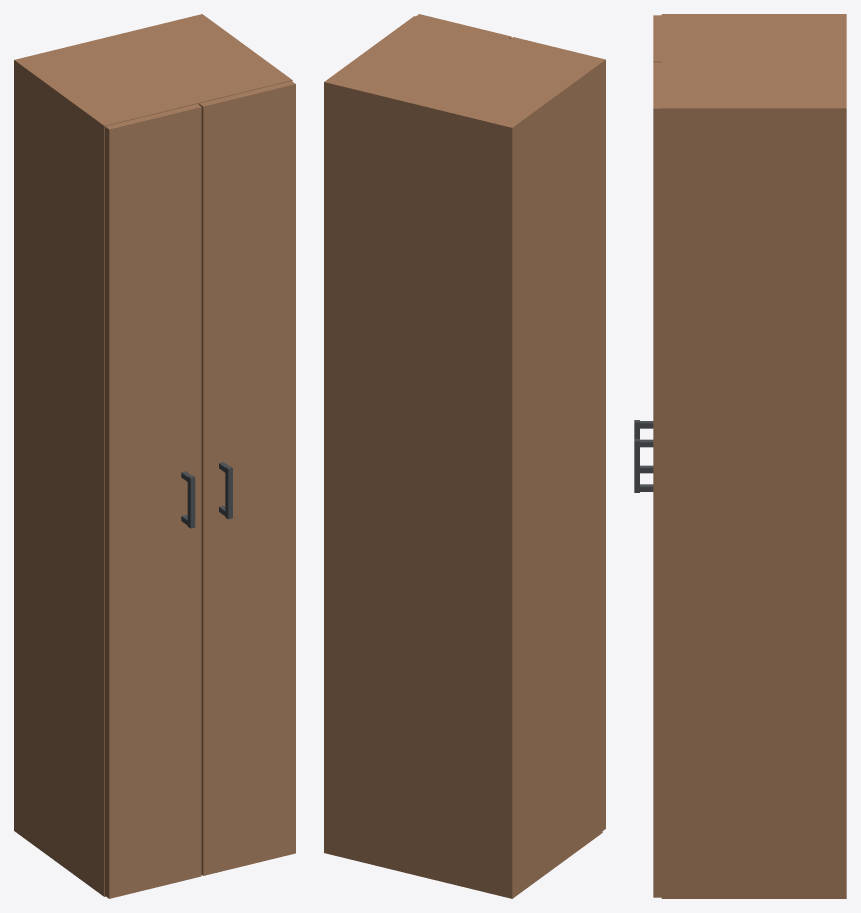
3 views of the same model, side by side, from view 1: azimuth 30°, elevation 25°; view 2: azimuth 150°, elevation 25°; view 3: azimuth 270°, elevation 25° (orthographic). The views are drawn at different scales.
Visible parts, largest first — view 1: panel_left, panel_right, side_left, top, side_right; view 2: back, side_left, top, side_right, panel_left, bottom; view 3: side_right, top, panel_right, side_left.
Part boxes in pixels (left/top/right/bottom): panel_left: left=105, top=104, right=201, bottom=898; panel_right: left=199, top=81, right=295, bottom=875; side_left: left=14, top=58, right=111, bottom=896; top: left=21, top=16, right=285, bottom=124; side_right: left=195, top=14, right=292, bottom=82; back: left=331, top=91, right=504, bottom=889; side_left: left=505, top=60, right=602, bottom=898; top: left=331, top=18, right=594, bottom=133; side_right: left=324, top=16, right=420, bottom=854; panel_left: left=510, top=37, right=605, bottom=830; bottom: left=331, top=847, right=504, bottom=896; side_right: left=661, top=104, right=846, bottom=898; top: left=661, top=17, right=846, bottom=104; panel_right: left=653, top=62, right=661, bottom=897; side_left: left=661, top=14, right=846, bottom=17.
Size of the model in its own units: 0.47 by 1.84 by 0.448.
